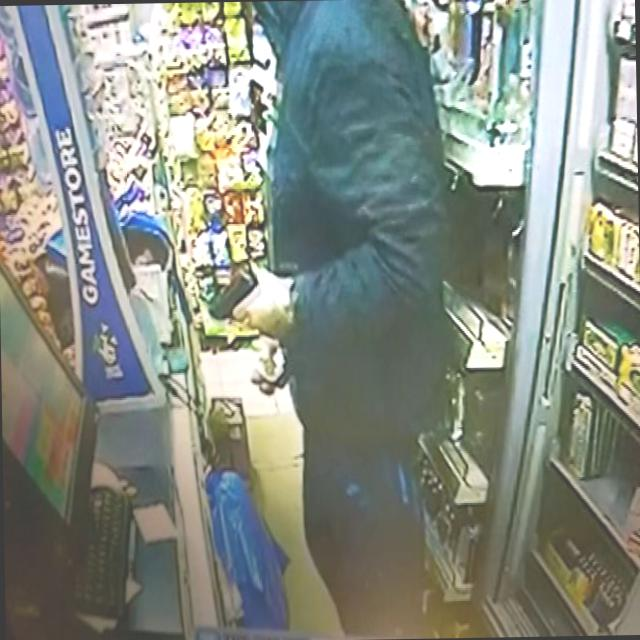handgun: (201, 264, 264, 320)
